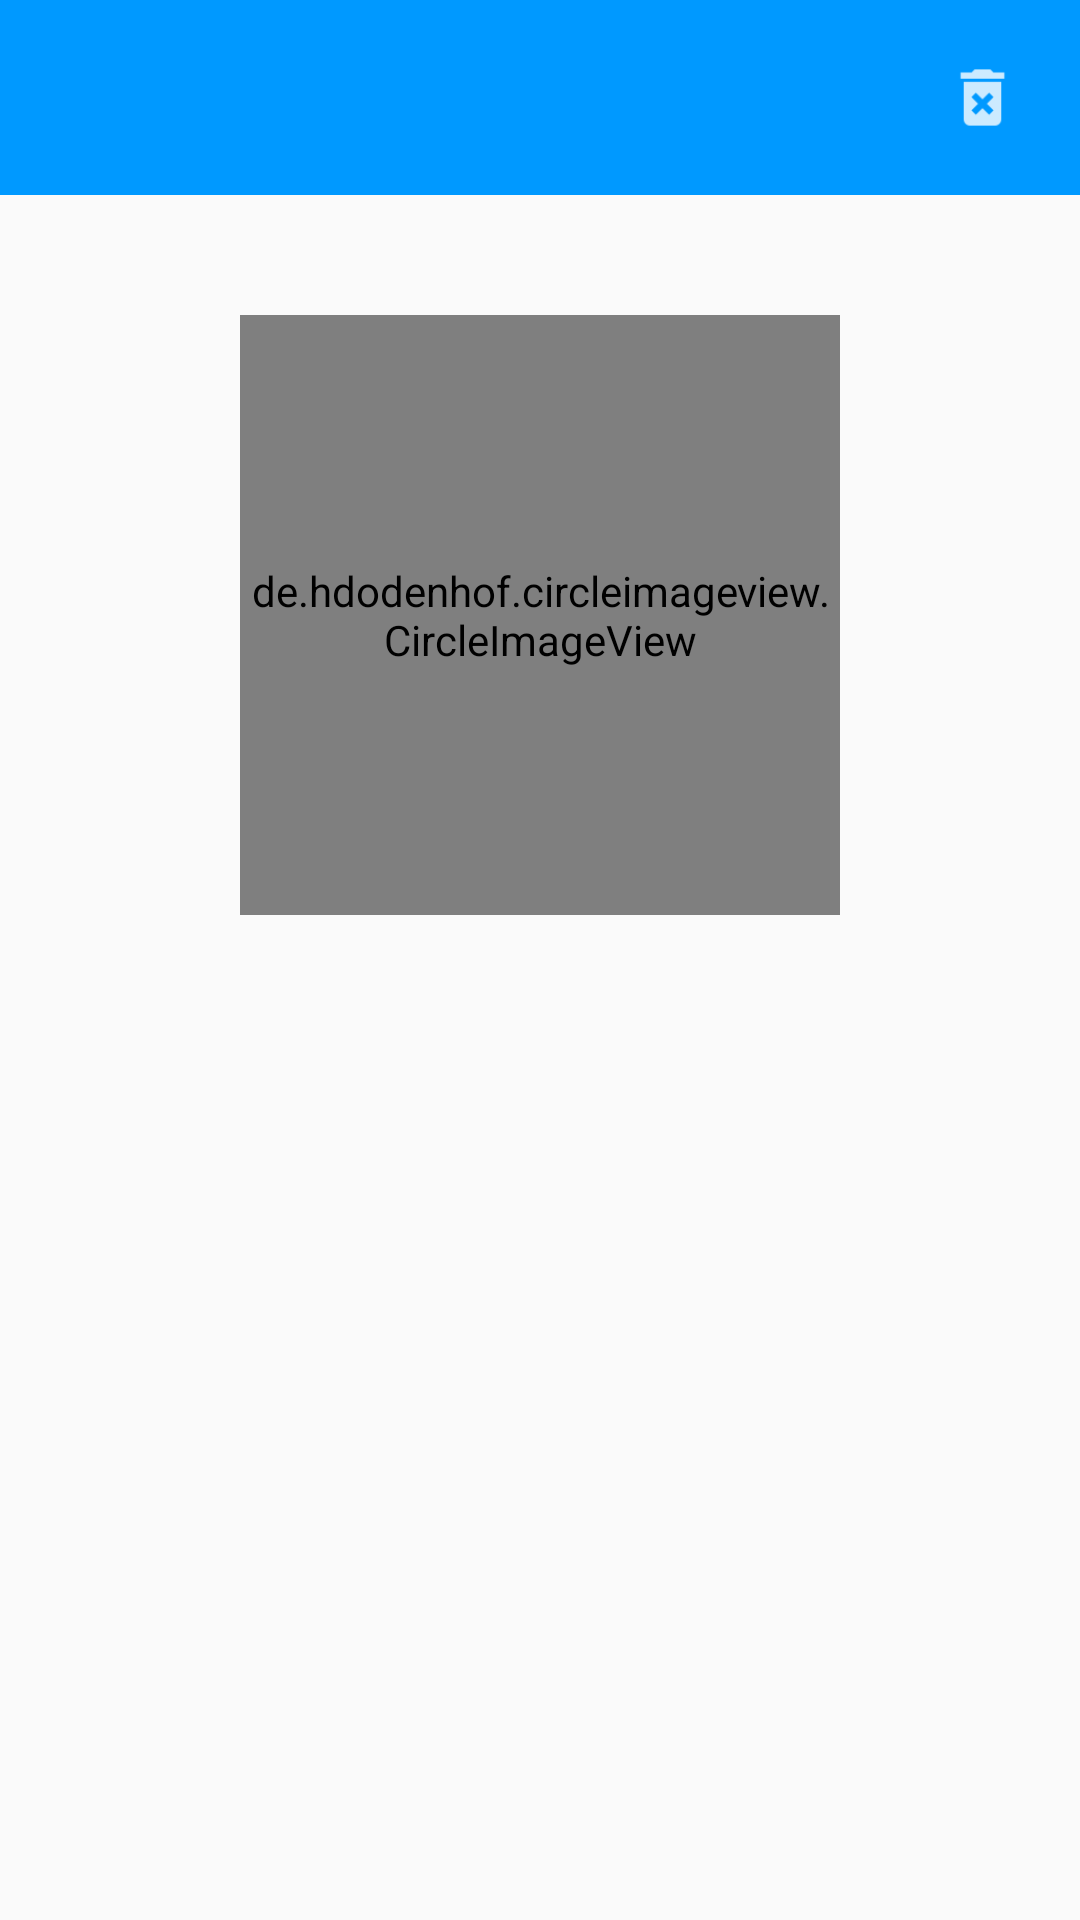

Named icons in this screenshot (1080px×1920px) and their centers, [x,y]:
delete: [982,97]
